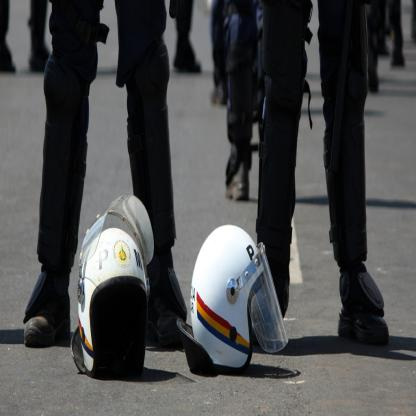Helmet: (174, 221, 291, 369), (71, 190, 153, 375)
